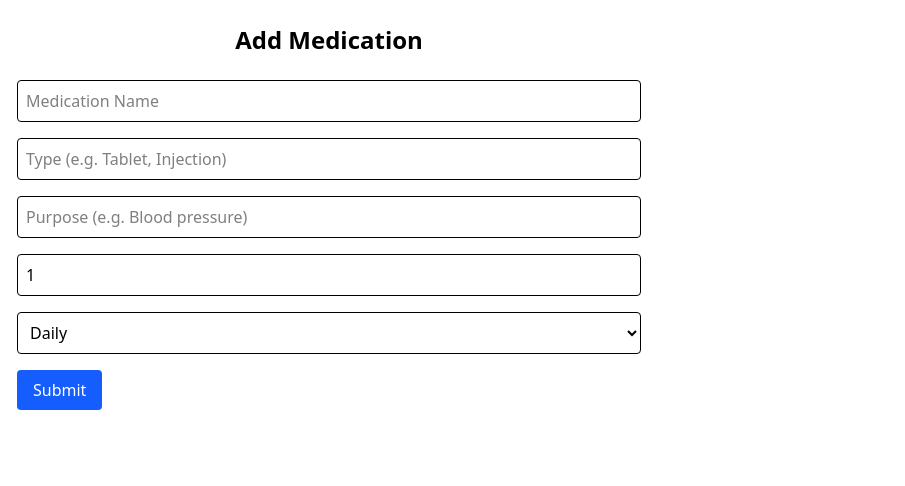
Test: AddMedication › submits successfully with monthly schedule and day
Type "MonthlyMed" into the field with placeholder "Medication Name" at [329, 101], box top-left (17, 80), bottom-right (641, 122)
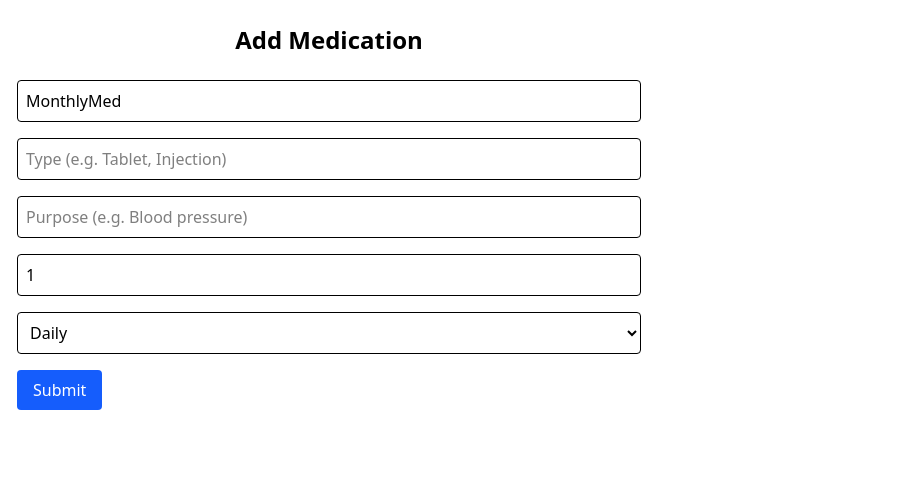
Type "Syringe" into the field with placeholder "Type (e.g. Tablet, Injection)" at [329, 159], box top-left (17, 138), bottom-right (641, 180)
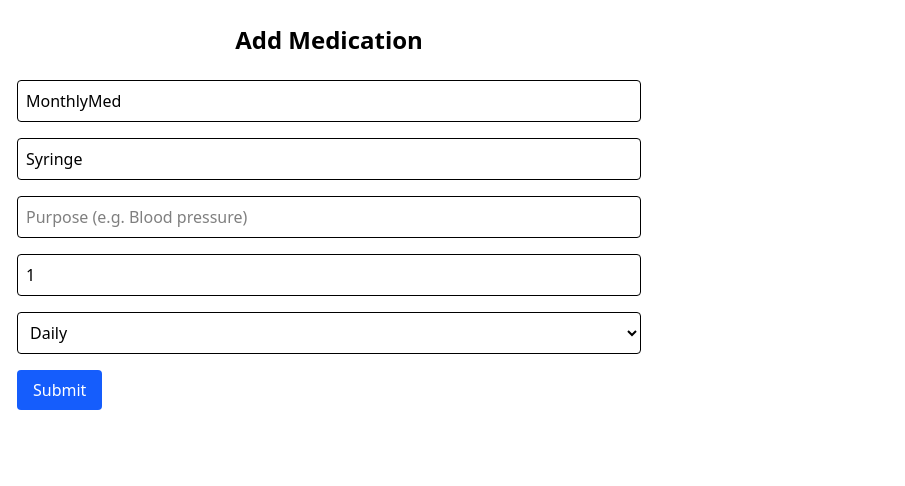
Type "Purpose" into the field with placeholder "Purpose (e.g. Blood pressure)" at [329, 217], box top-left (17, 196), bottom-right (641, 238)
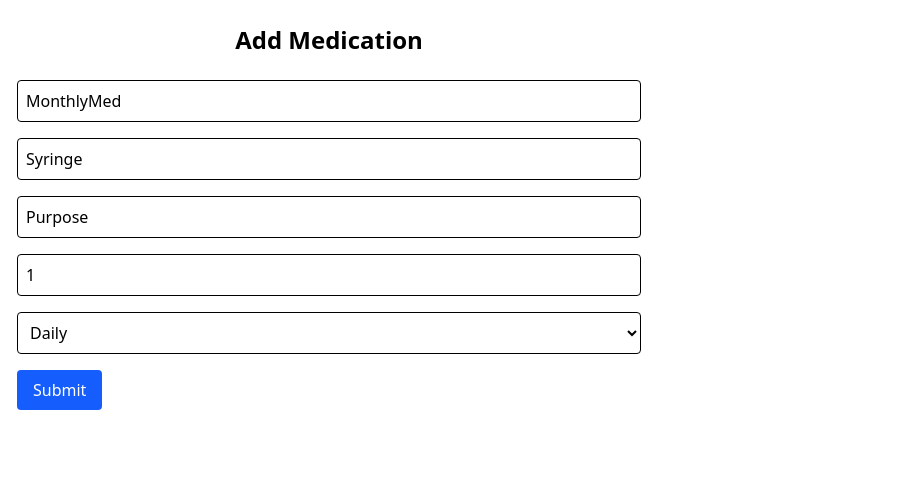
Select "Monthly" in the dropdown at [329, 333], box top-left (17, 312), bottom-right (641, 354)
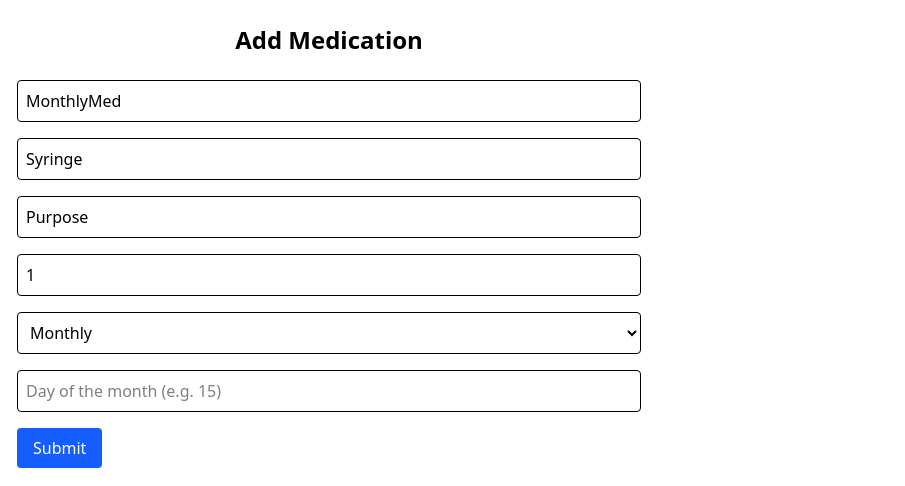
Type "10" into the number field with placeholder "Day of the month (e.g. 15)" at [329, 391], box top-left (17, 370), bottom-right (641, 412)
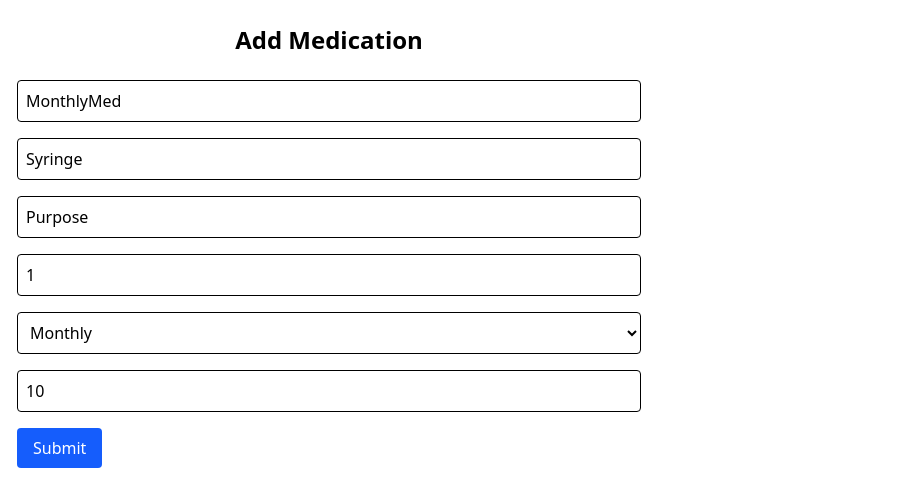
Click the button "Submit" at [60, 448], box top-left (17, 428), bottom-right (102, 468)
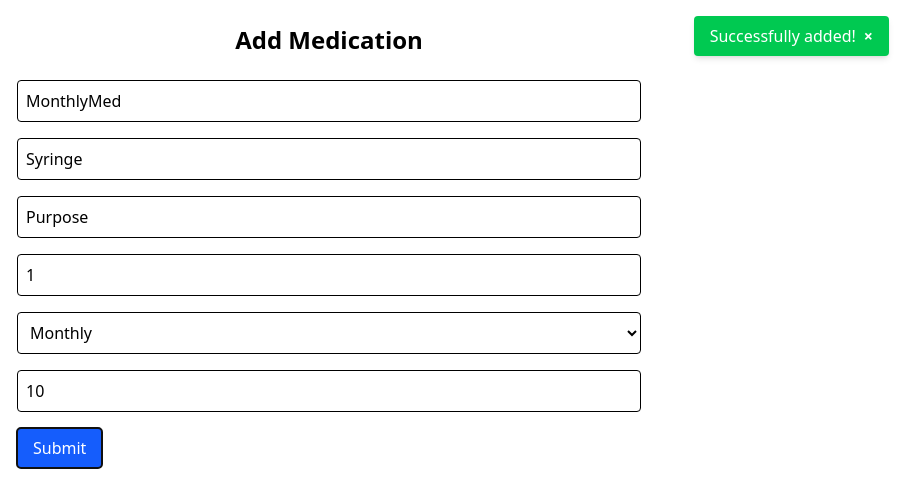
Now the text "Successfully added!" is shown, box top-left (710, 25), bottom-right (856, 47)
